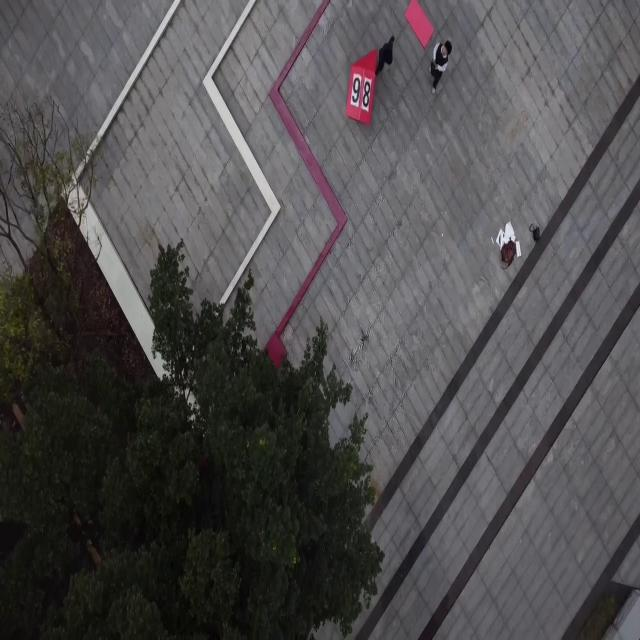-sign-: (345, 48, 379, 126), (404, 0, 434, 50)
